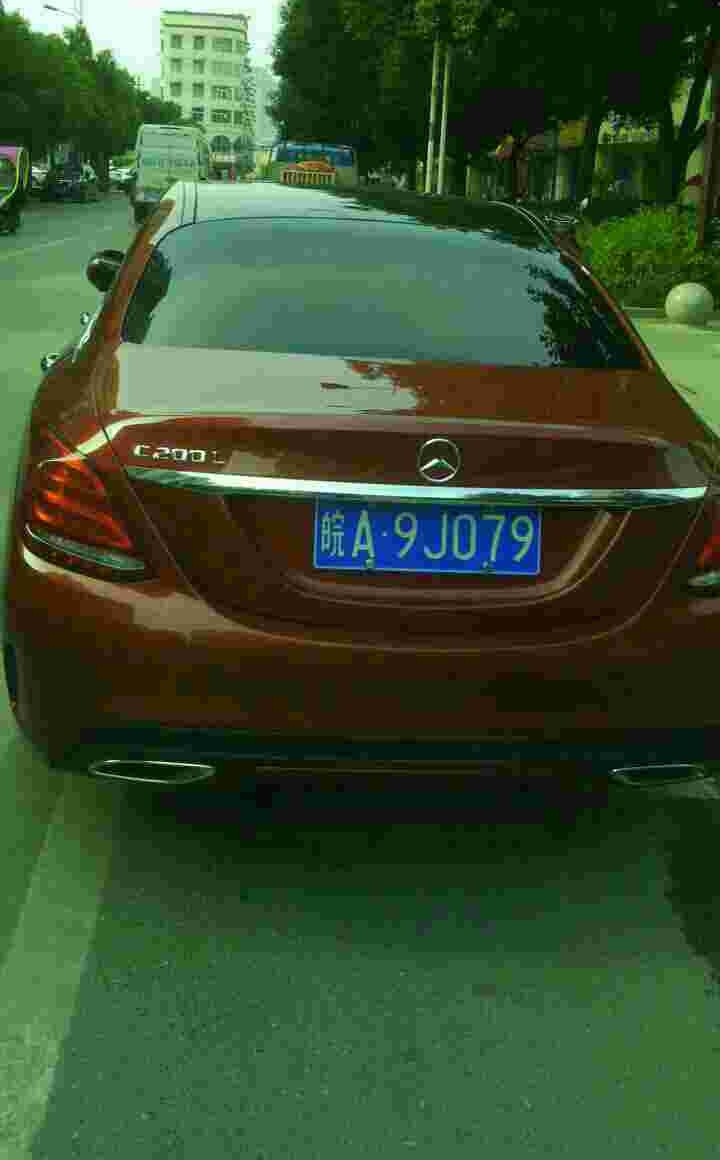license_plate: (315, 498, 536, 584)
